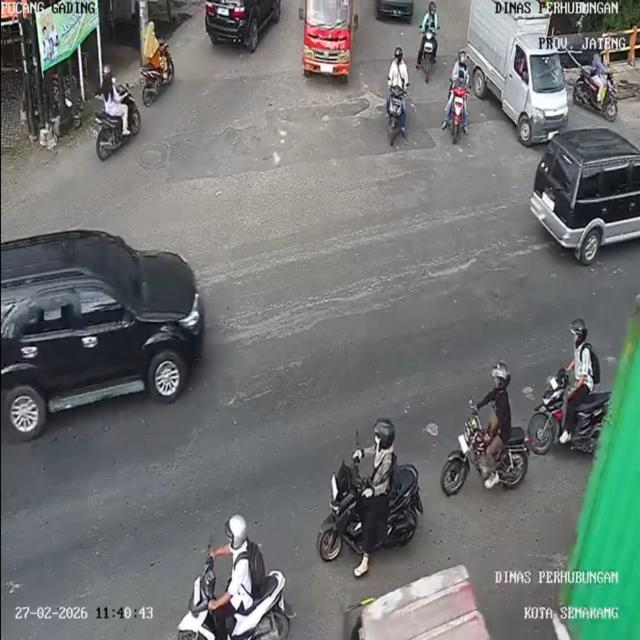motorcycle: (328, 461, 423, 551), (440, 415, 532, 495), (170, 578, 288, 637), (534, 373, 620, 452), (576, 67, 619, 121), (94, 107, 138, 159), (140, 57, 176, 102), (388, 84, 405, 145), (452, 90, 467, 142), (422, 31, 436, 81)
person: (210, 512, 267, 604), (362, 414, 402, 494), (568, 318, 602, 396), (486, 359, 517, 437), (100, 66, 126, 113), (143, 24, 170, 69), (387, 43, 410, 94), (422, 1, 439, 35), (452, 52, 470, 82), (591, 48, 606, 82), (456, 70, 466, 90), (458, 45, 466, 58)
rider_region: (170, 508, 298, 638), (318, 410, 424, 565), (442, 362, 532, 489), (534, 318, 619, 451), (91, 60, 143, 162), (576, 49, 622, 121), (444, 43, 474, 145), (141, 21, 175, 107), (382, 41, 410, 144), (419, 2, 440, 84)
